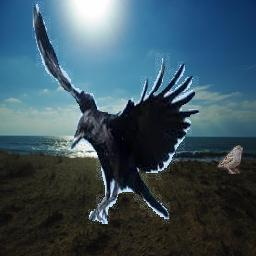Crow: (33, 0, 200, 225)
Sparrow: (217, 146, 243, 175)
